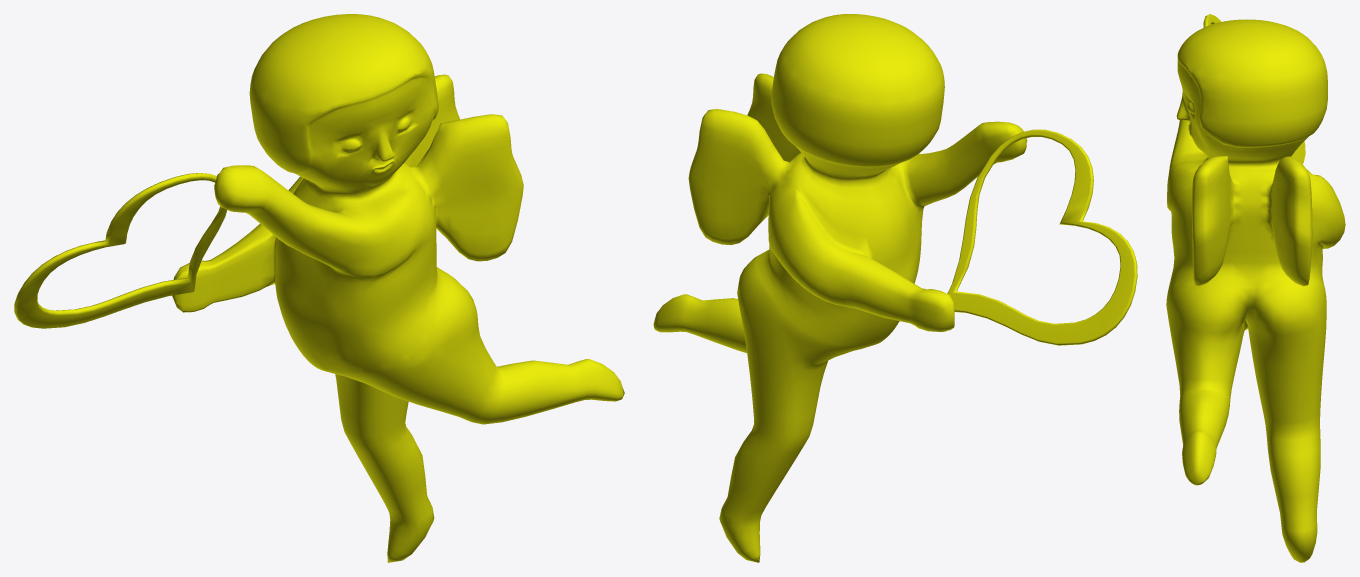
File: cupid.fbx
The picture shows the model from 3 angles, left to right: view 1: azimuth 30°, elevation 25°; view 2: azimuth 150°, elevation 25°; view 3: azimuth 270°, elevation 25°; orthographic projection. The views are drawn at different scales.
Parts seen in each view (by area): view 1: cupid2:cupid; view 2: cupid2:cupid; view 3: cupid2:cupid.
Part boxes in pixels (box(x1,y1,x2,y2)): cupid2:cupid: box(14, 14, 624, 562); cupid2:cupid: box(653, 14, 1137, 562); cupid2:cupid: box(1166, 14, 1345, 562).
Bounding box in the file's own units: 20.61 × 20.07 × 6.55.
